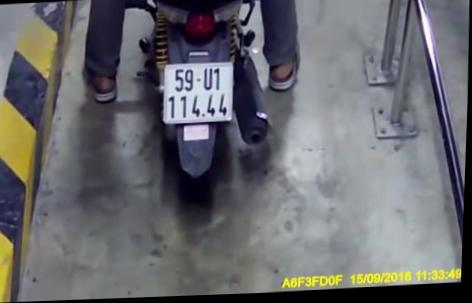LP: (161, 60, 239, 127)
